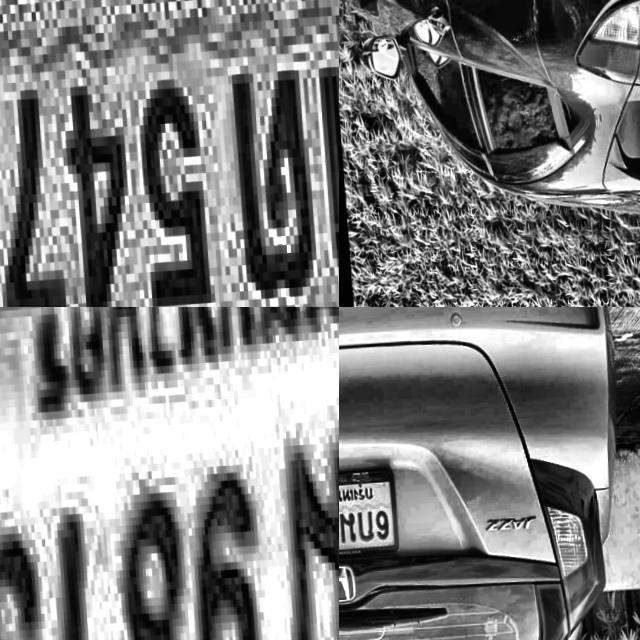license-plate: (0, 307, 339, 640), (0, 0, 339, 307), (339, 467, 399, 565)
